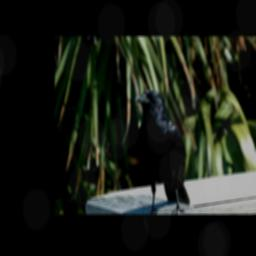Crow: (135, 89, 190, 214)
